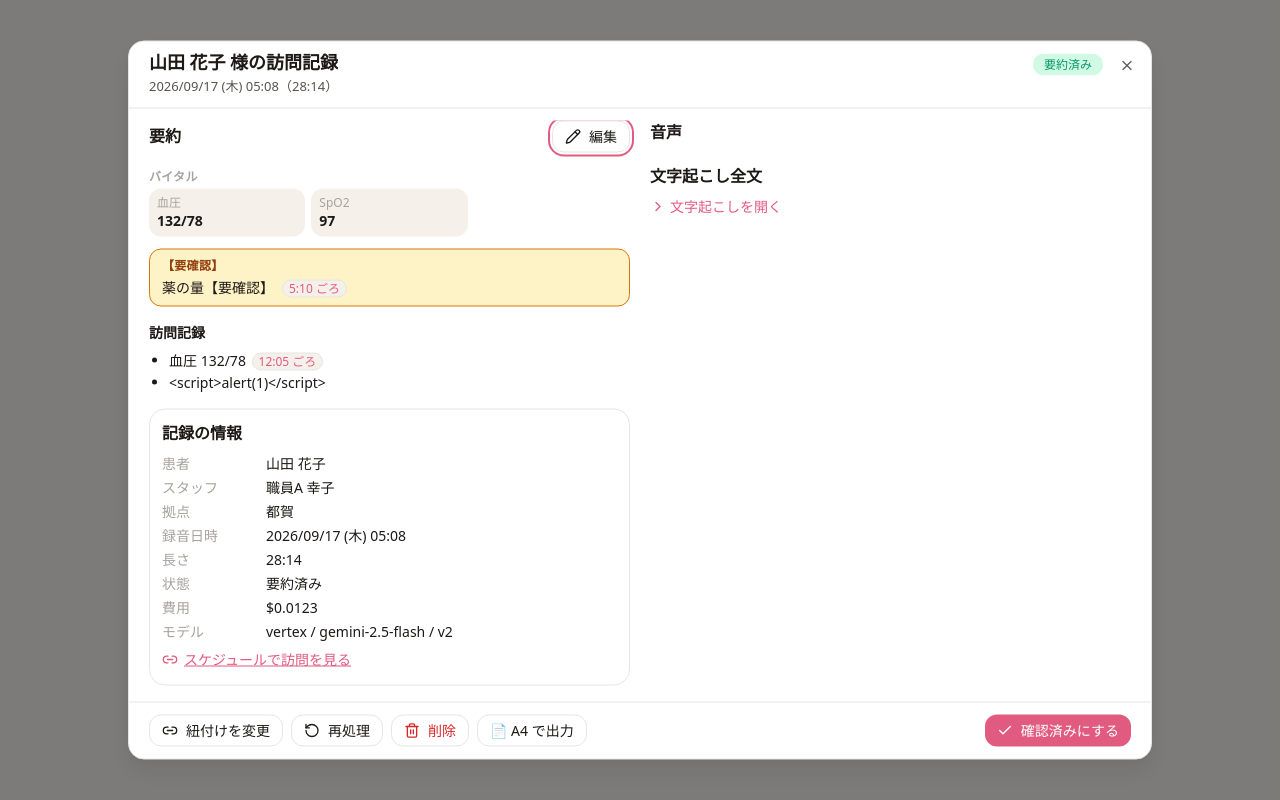
RecordDetailDialog › v2: 文字起こしは畳んであり、整えた行が既定・元の行へ切り替えられる
The width and height of the screenshot is (1280, 800).
Click the button with test id "record-transcript-toggle": click(716, 206) [650,196,782,216]
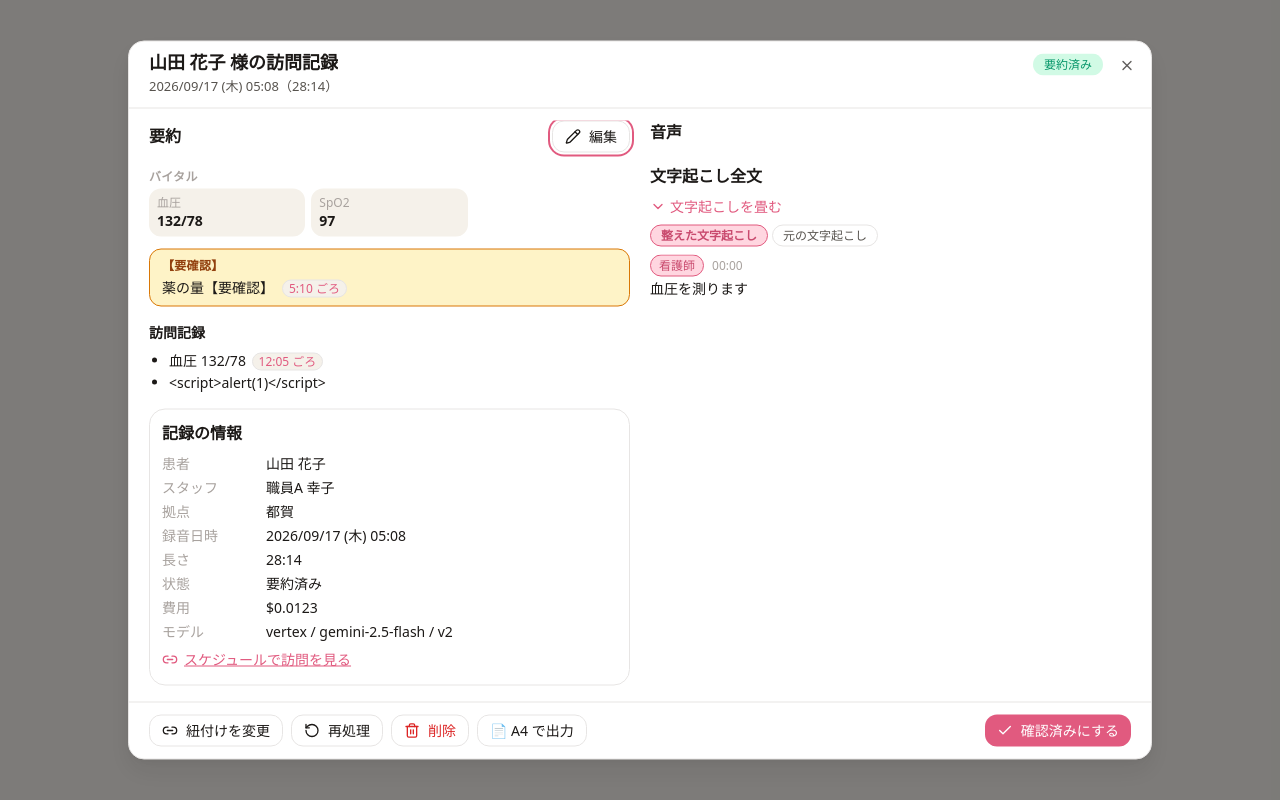
Result: the element with test id "record-transcript-segments" shows "血圧を測ります" at [650,278,748,298]
Click the button "元の文字起こし": click(825, 236) [772,224,878,246]
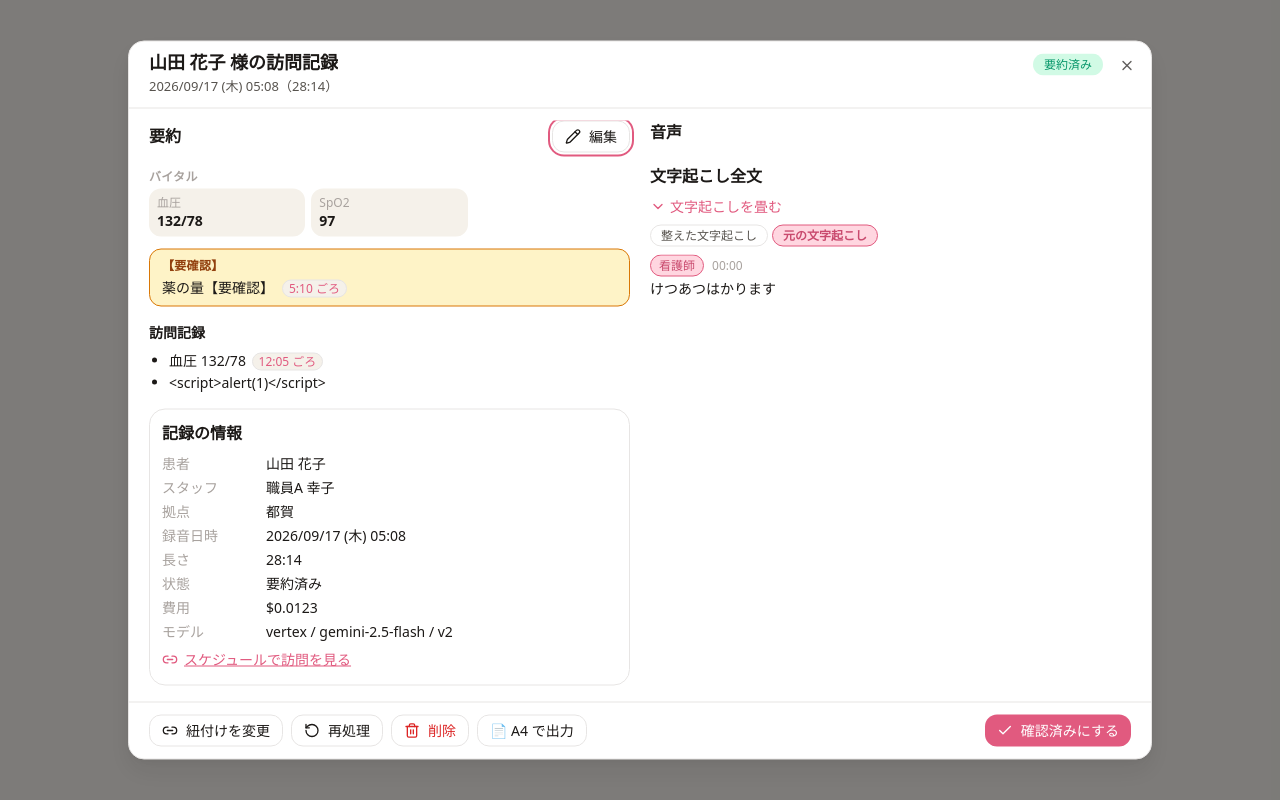
Result: the element with test id "record-transcript-segments" shows "けつあつはかります" at [650,278,776,298]
Click the button "整えた文字起こし": click(709, 236) [650,224,768,246]
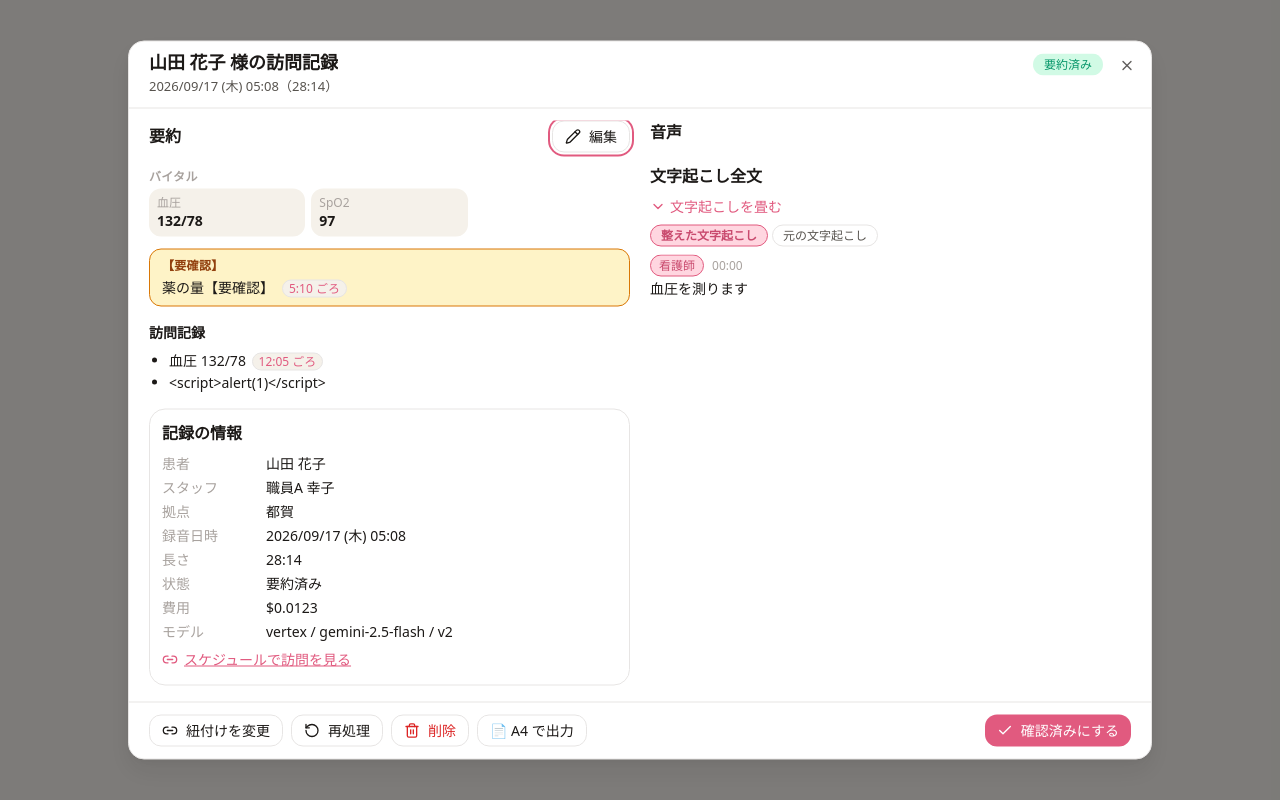
Result: the element with test id "record-transcript-segments" shows "血圧を測ります" at [650,278,748,298]
